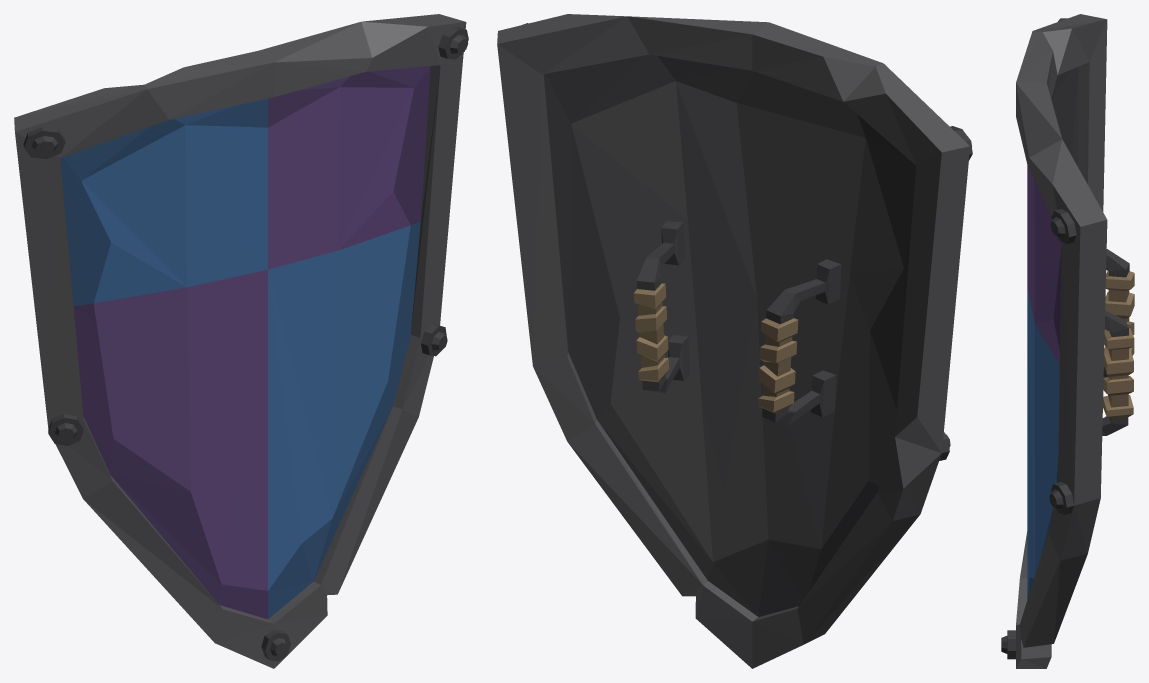
File: SM_Wep_Shield_02.glb
3 renders of one model, left to right at view 1: azimuth 30°, elevation 25°; view 2: azimuth 150°, elevation 25°; view 3: azimuth 270°, elevation 25°, orthographic. The views are drawn at different scales.
Visible parts, largest first — view 1: SM_Wep_Shield_02; view 2: SM_Wep_Shield_02; view 3: SM_Wep_Shield_02.
Boxes of the visible parts, x1,y1,x2,y2 form: SM_Wep_Shield_02: (14, 14, 468, 668); SM_Wep_Shield_02: (497, 14, 972, 668); SM_Wep_Shield_02: (1001, 14, 1134, 668).
Bounding box in the file's own units: 0.5314 × 0.6822 × 0.1409.
Materials: 1 (1 with a texture image).
